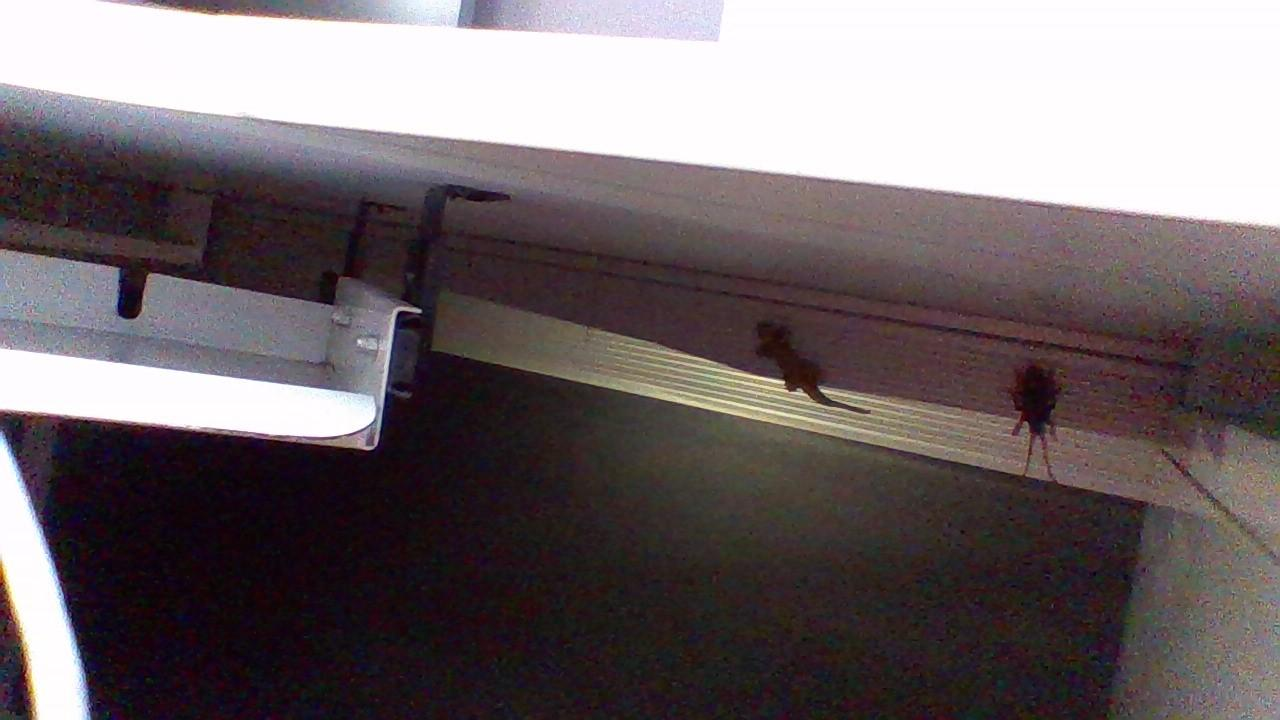cockroach: (997, 339, 1074, 489)
lizard: (742, 300, 880, 430)
